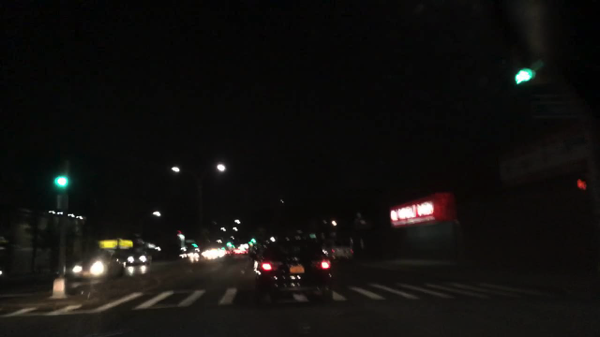car: (248, 233, 332, 297), (67, 250, 123, 280), (147, 228, 186, 263), (321, 232, 355, 262), (124, 256, 149, 277), (203, 245, 224, 264), (185, 248, 200, 264), (232, 247, 248, 255), (226, 249, 231, 256)
traffic light: (513, 65, 535, 84), (52, 173, 71, 193), (576, 176, 586, 193)
